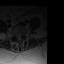CCS_normal: (18, 34, 20, 42)
LFS_severe_stenosis: (21, 33, 23, 38)
LLS_severe_stenosis: (20, 35, 21, 41)
RFS_severe_stenosis: (14, 33, 16, 39)
RLS_stenosis: (16, 34, 18, 40)
